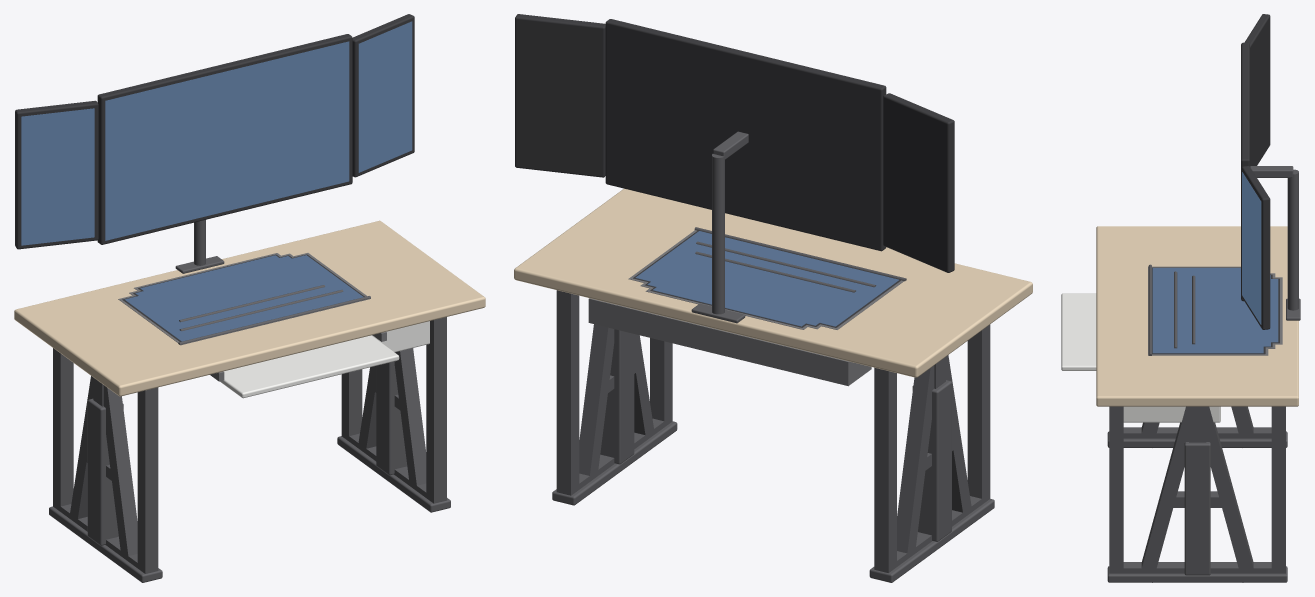
The model's file is smart-desk.glb.
The picture shows the model from 3 angles, left to right: view 1: azimuth 30°, elevation 25°; view 2: azimuth 150°, elevation 25°; view 3: azimuth 270°, elevation 25°; orthographic projection. The views are drawn at different scales.
Parts seen in each view (by area): view 1: Monitor4K_Panel, Top, SideMonitorLeft_Panel, TouchScreen_32_Panel, SideMonitorRight_Panel, KeyboardTray_Board, Monitor4K, TouchScreen_24_Panel, Leg_A_Left_PostFront, Leg_A_Right_PostFront, Leg_B_Left_PostFront, Leg_C_Left_Outer (+16 smaller); view 2: Monitor4K, Top, SideMonitorRight_Display, SideMonitorLeft_Display, CableTray, Leg_A_Right_PostBack, TouchScreen_24_Panel, Leg_A_Left_PostBack, TouchScreen_32_Panel, TouchScreen_27_Panel, Leg_B_Left_PostBack, Leg_A_Left_PostFront (+12 smaller); view 3: Top, TouchScreen_32_Panel, TouchScreen_27_Panel, Leg_C_Right_Outer, TouchScreen_24_Panel, SideMonitorLeft_Display, KeyboardTray_Board, SideMonitorRight_Panel, Leg_A_Right_PostFront, Leg_B_Right_PostBack, Leg_A_Right_PostBack, Leg_B_Right_PostFront (+15 smaller).
Part boxes in pixels (x1,y1,x2,y2): Monitor4K_Panel: (105,41,349,240); Top: (14,220,485,396); SideMonitorLeft_Panel: (21,108,94,245); TouchScreen_32_Panel: (124,255,363,341); SideMonitorRight_Panel: (358,21,412,172); KeyboardTray_Board: (220,335,399,398); Monitor4K: (97,34,352,244); TouchScreen_24_Panel: (140,255,316,318); Leg_A_Left_PostFront: (137,387,158,573); Leg_A_Right_PostFront: (426,317,446,503); Leg_B_Left_PostFront: (103,385,137,558); Leg_C_Left_Outer: (87,398,123,545); Monitor4K: (605,19,886,251); Top: (514,188,1032,377); SideMonitorRight_Display: (515,14,605,177); SideMonitorLeft_Display: (883,93,954,272); CableTray: (588,298,871,386); Leg_A_Right_PostBack: (556,290,579,495); TouchScreen_24_Panel: (653,255,848,326); Leg_A_Left_PostBack: (874,367,896,572); TouchScreen_32_Panel: (635,231,898,326); TouchScreen_27_Panel: (647,245,868,325); Leg_B_Left_PostBack: (897,365,934,559); Leg_A_Left_PostFront: (967,324,990,501); Top: (1096,226,1298,406); TouchScreen_32_Panel: (1152,268,1263,353); TouchScreen_27_Panel: (1177,275,1270,346); Leg_C_Right_Outer: (1184,442,1210,575); TouchScreen_24_Panel: (1196,279,1278,342); SideMonitorLeft_Display: (1244,14,1270,165); KeyboardTray_Board: (1061,293,1096,370); SideMonitorRight_Panel: (1242,172,1261,324); Leg_A_Right_PostFront: (1109,406,1123,568); Leg_B_Right_PostBack: (1206,406,1253,568); Leg_A_Right_PostBack: (1271,406,1285,568); Leg_B_Right_PostFront: (1141,406,1188,582).
Bounding box in the file's own units: 1.52 × 1.57 × 0.825.
